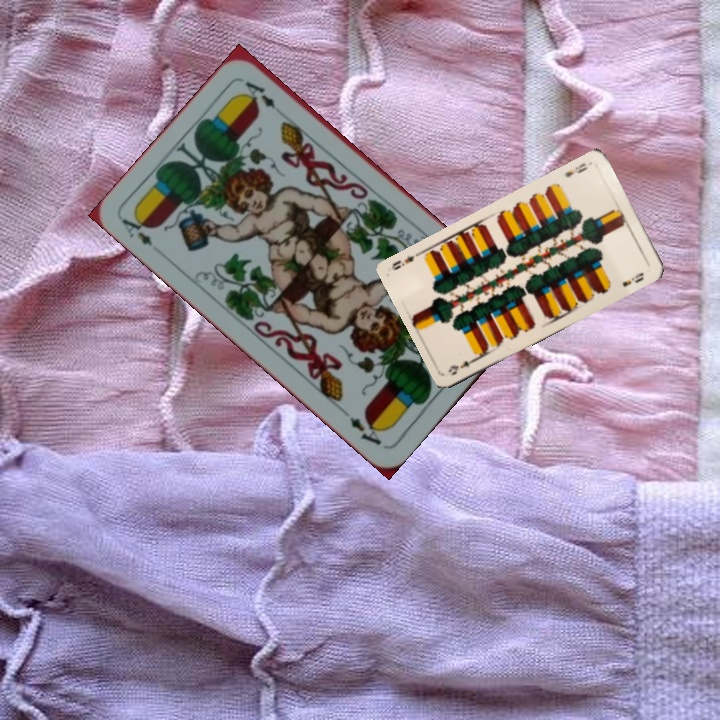E9: (444, 352, 483, 378), (561, 159, 590, 181)
EA: (117, 209, 155, 249)
